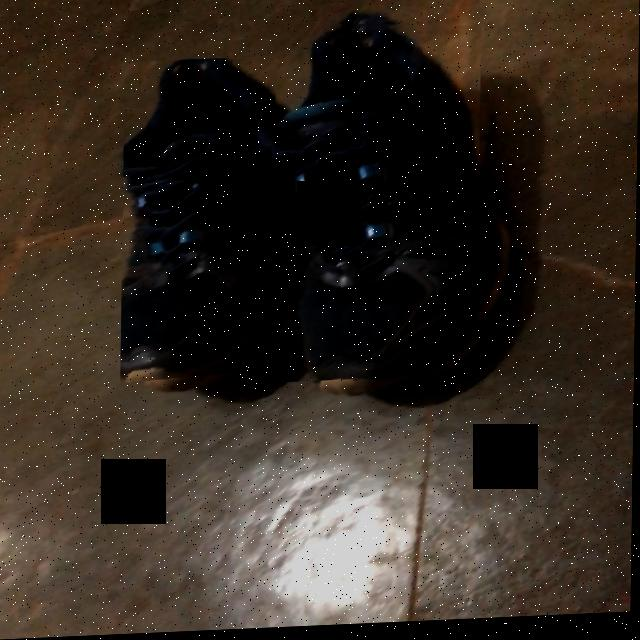shoe: (264, 26, 479, 384), (122, 60, 268, 384)
